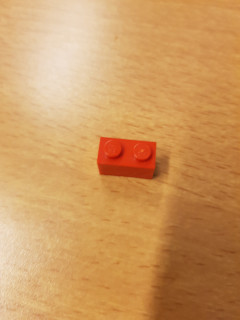1x2 red: (96, 135, 157, 182)
